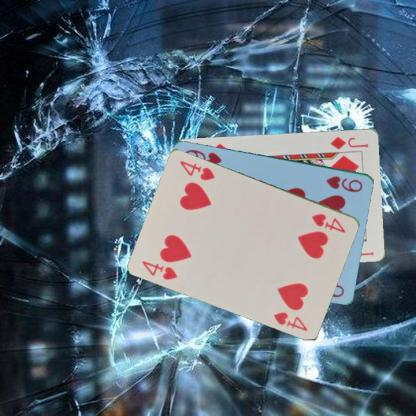4h: (310, 210, 347, 235), (140, 258, 179, 281)
9h: (324, 172, 364, 194)
Jd: (328, 134, 370, 150)
